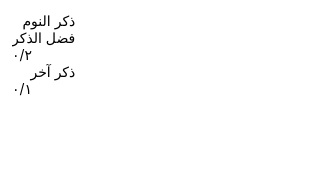
Test: AdhkarList › shows virtues, progress tracks, completion, and reset controls
Later steps or results of the test are not shown.
Check: the text "فضل الذكر" is shown, box left=12, top=29, right=75, bottom=46
Check: the text with test id "adhkar-list-progress-sleep-1" reads "٠/٢", box left=12, top=46, right=32, bottom=63
Step 1. Click the button with test id "adhkar-list-count-sleep-1" → (44,54), box left=12, top=46, right=75, bottom=63
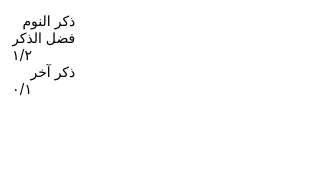
Step 2. Click the button with test id "adhkar-list-count-sleep-1" → (44,54), box left=12, top=46, right=75, bottom=63
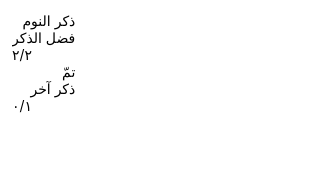
Check: the text "تمّ" is shown, box left=62, top=63, right=75, bottom=80
Check: the text with test id "adhkar-list-progress-sleep-1" reads "٢/٢", box left=12, top=46, right=32, bottom=63
Step 3. Click the button with test id "adhkar-list-count-sleep-1" → (44,63), box left=12, top=46, right=75, bottom=80
Check: the text with test id "adhkar-list-progress-sleep-1" reads "٢/٢", box left=12, top=46, right=32, bottom=63
